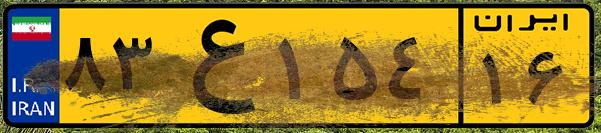1: (270, 28, 330, 110), (475, 38, 525, 113)
3: (110, 28, 158, 98)
4: (385, 28, 445, 110)
5: (330, 28, 385, 110)
6: (525, 38, 570, 115)
8: (57, 26, 110, 100)
ع: (158, 12, 270, 120)
